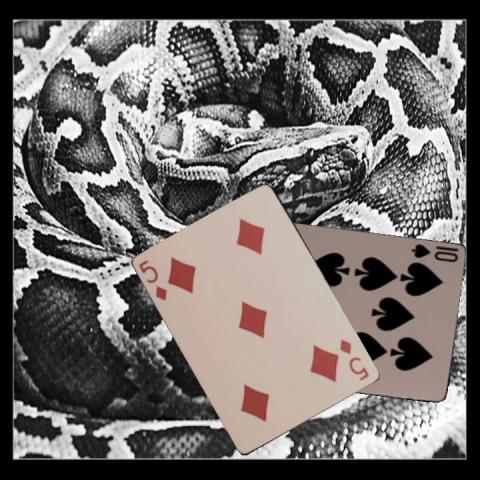10s: (408, 241, 460, 264)
5d: (337, 335, 371, 383), (136, 257, 169, 302)
